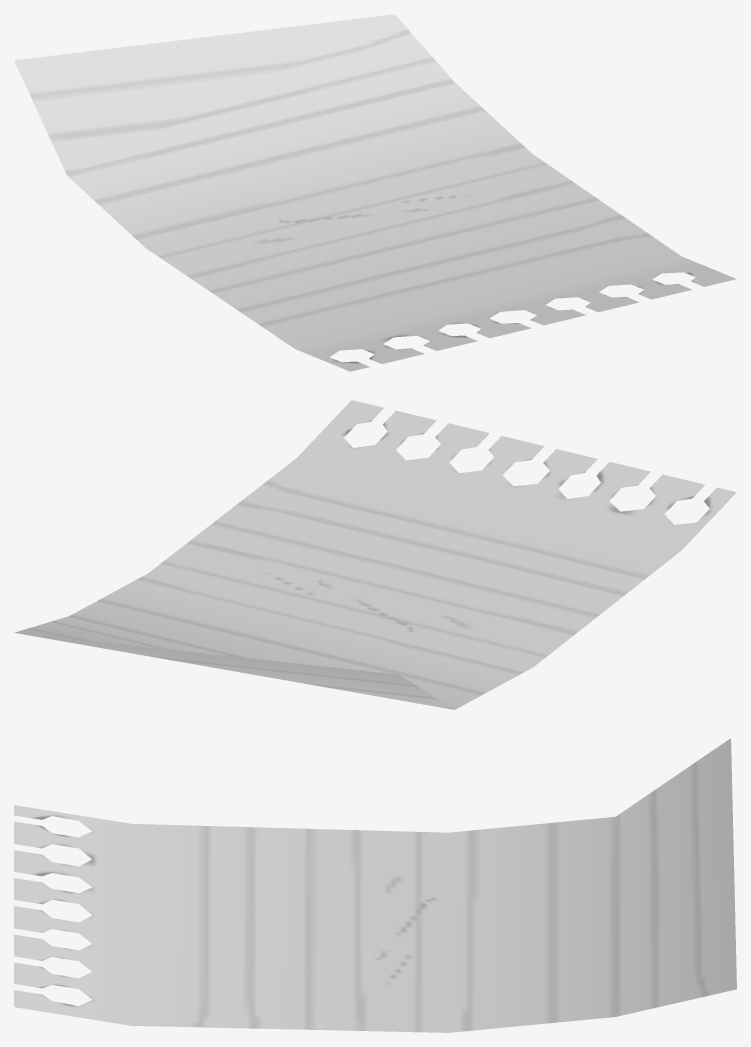
File: obj_NotePadSheet.fbx
The picture shows the model from 3 angles, top to bottom: view 1: azimuth 30°, elevation 25°; view 2: azimuth 150°, elevation 25°; view 3: azimuth 270°, elevation 25°; orthographic projection. The views are drawn at different scales.
Parts seen in each view (by area): view 1: obj_NotePadSheet; view 2: obj_NotePadSheet; view 3: obj_NotePadSheet.
Boxes of the visible parts, x1,y1,x2,y2 form: obj_NotePadSheet: (14, 14, 736, 371); obj_NotePadSheet: (14, 400, 736, 709); obj_NotePadSheet: (14, 738, 736, 1032).
Size of the model in its own units: 0.0967 by 0.0215 by 0.1474.
1 material, 1 textured.
